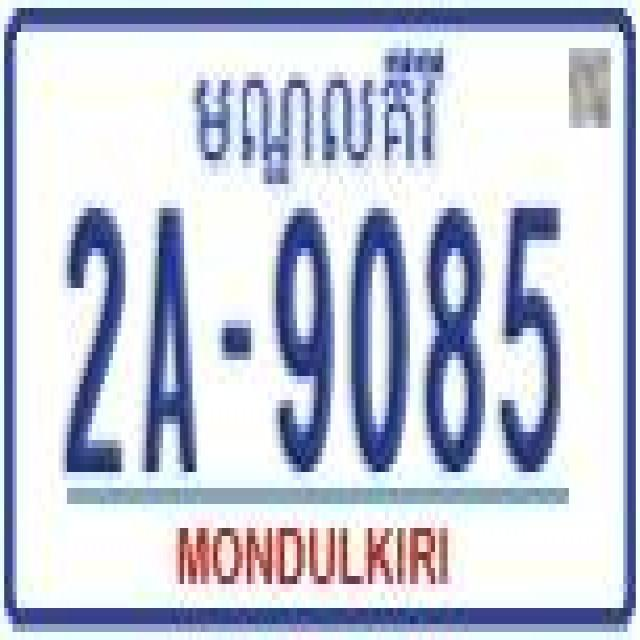Mondul_Kiri: (184, 40, 450, 195)
